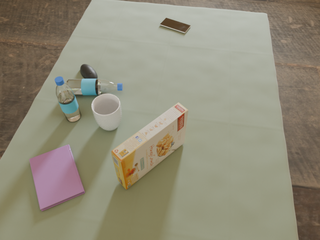book: (29, 145, 85, 211)
bottle: (55, 77, 81, 122), (66, 78, 122, 95)
box: (111, 103, 188, 190)
cup: (92, 94, 122, 131)
mouse: (80, 64, 97, 78)
phone: (160, 18, 191, 33)
